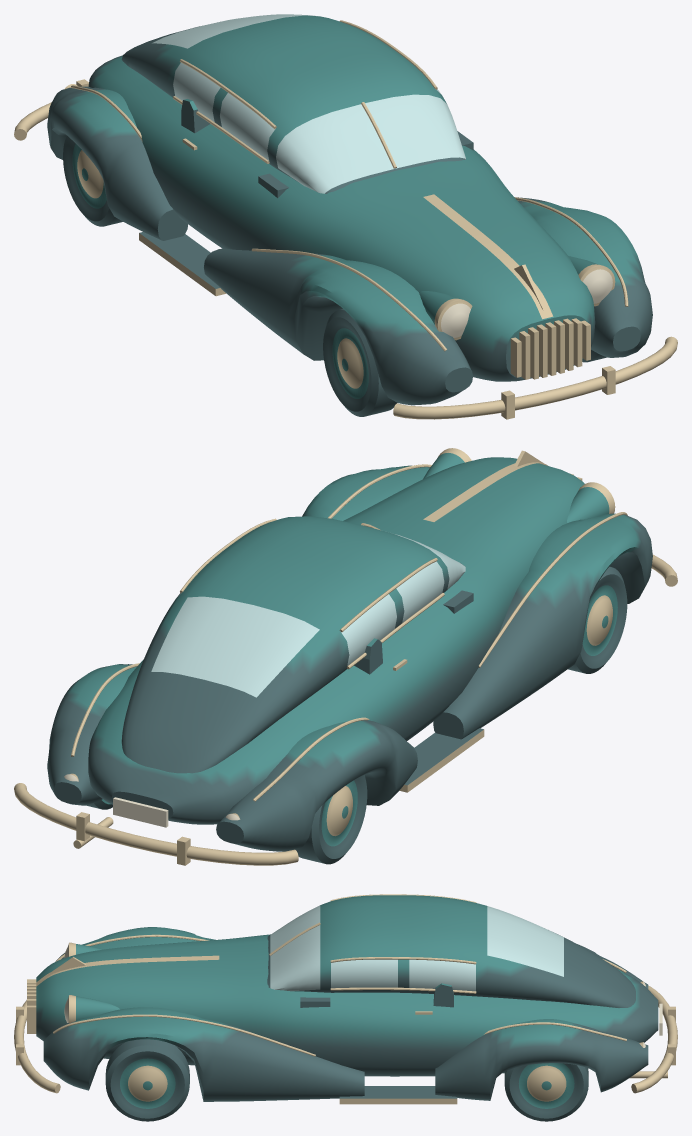
File: KC32__AD_Ext_Car_Coupe_Black.glb
3 renders of one model, top to bottom at view 1: azimuth 30°, elevation 25°; view 2: azimuth 150°, elevation 25°; view 3: azimuth 270°, elevation 25°, orthographic. The views are drawn at different scales.
Parts seen in each view (by area): view 1: KC32_CORPS__AD_Ext_Car_Coupe_Black, KC32_BRONZE__AD_Ext_Car_Coupe_Black, KC32_VITRAGE__AD_Ext_Car_Coupe_Black, KC32_LUMIERE__AD_Ext_Car_Coupe_Black; view 2: KC32_CORPS__AD_Ext_Car_Coupe_Black, KC32_VITRAGE__AD_Ext_Car_Coupe_Black, KC32_BRONZE__AD_Ext_Car_Coupe_Black, KC32_LUMIERE__AD_Ext_Car_Coupe_Black; view 3: KC32_CORPS__AD_Ext_Car_Coupe_Black, KC32_VITRAGE__AD_Ext_Car_Coupe_Black, KC32_BRONZE__AD_Ext_Car_Coupe_Black.
Part boxes in pixels (bbox=[...]): KC32_CORPS__AD_Ext_Car_Coupe_Black: bbox=[47, 15, 652, 416]; KC32_BRONZE__AD_Ext_Car_Coupe_Black: bbox=[14, 20, 677, 419]; KC32_VITRAGE__AD_Ext_Car_Coupe_Black: bbox=[152, 14, 465, 193]; KC32_LUMIERE__AD_Ext_Car_Coupe_Black: bbox=[441, 269, 612, 337]; KC32_CORPS__AD_Ext_Car_Coupe_Black: bbox=[47, 453, 652, 864]; KC32_VITRAGE__AD_Ext_Car_Coupe_Black: bbox=[151, 534, 465, 697]; KC32_BRONZE__AD_Ext_Car_Coupe_Black: bbox=[14, 448, 677, 865]; KC32_LUMIERE__AD_Ext_Car_Coupe_Black: bbox=[64, 774, 239, 827]; KC32_CORPS__AD_Ext_Car_Coupe_Black: bbox=[36, 895, 658, 1121]; KC32_VITRAGE__AD_Ext_Car_Coupe_Black: bbox=[270, 905, 563, 991]; KC32_BRONZE__AD_Ext_Car_Coupe_Black: bbox=[14, 894, 677, 1104].
Size of the model in its own units: 2.12 by 1.43 by 5.36.
